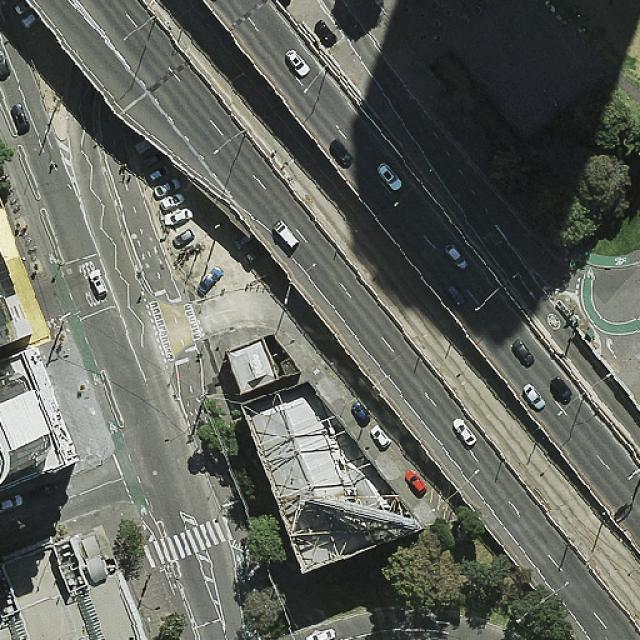Bike-Symbols: (614, 257, 627, 266), (92, 373, 101, 386), (587, 268, 597, 279), (109, 422, 118, 434), (49, 253, 57, 264), (141, 505, 148, 517)
